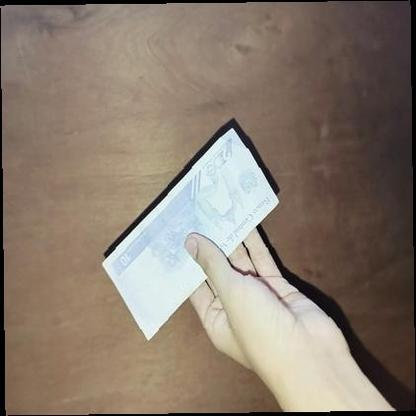vef_back: (100, 130, 278, 340)
